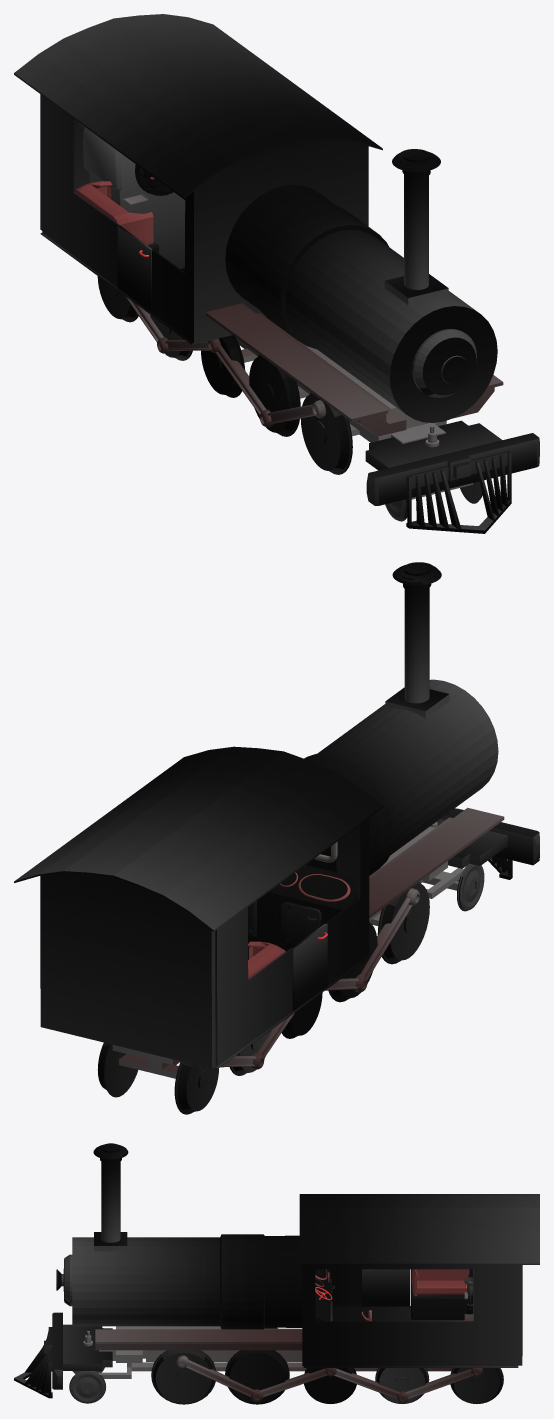
File: Ferrocarril.fbx
3 renders of one model, top to bottom at view 1: azimuth 30°, elevation 25°; view 2: azimuth 150°, elevation 25°; view 3: azimuth 270°, elevation 25°, orthographic. The views are drawn at different scales.
Parts seen in each view (by area): view 1: Carbon Kg.001, Door.001; view 2: Carbon Kg.001, Door.001; view 3: Carbon Kg.001, Door.001.
Boxes of the visible parts, x1,y1,x2,y2 form: Carbon Kg.001: (14,14,539,533); Door.001: (117,225,152,312); Carbon Kg.001: (14,562,539,1114); Door.001: (292,924,327,1010); Carbon Kg.001: (14,1143,539,1404); Door.001: (362,1269,409,1306).
Size of the model in its own units: 2117 by 3512 by 6829.
